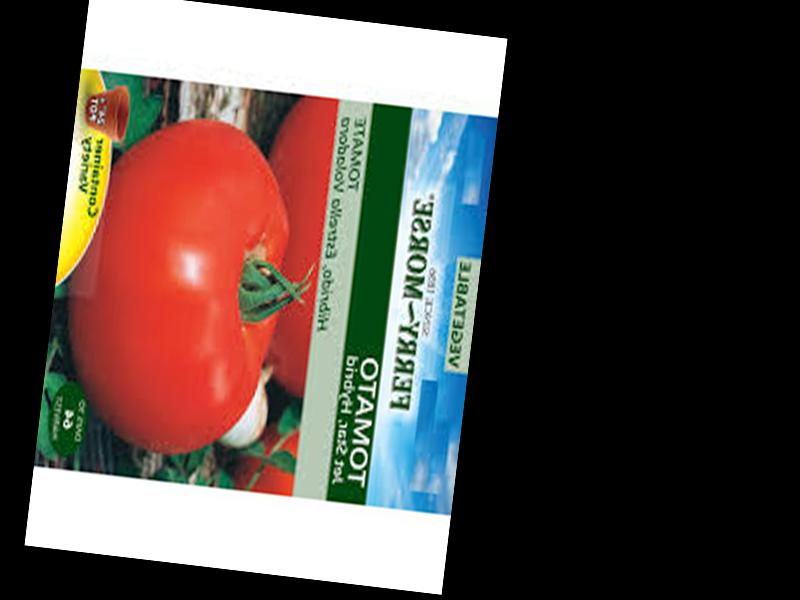Tomato: (51, 109, 300, 465)
